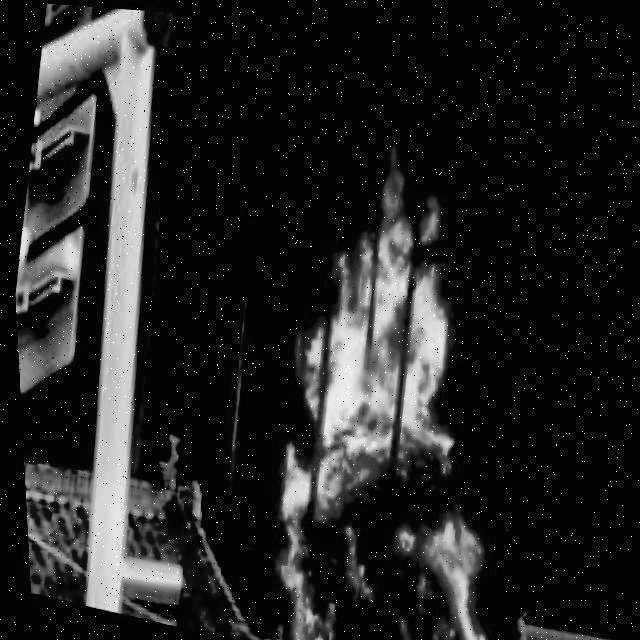Fire: (233, 145, 544, 640)
